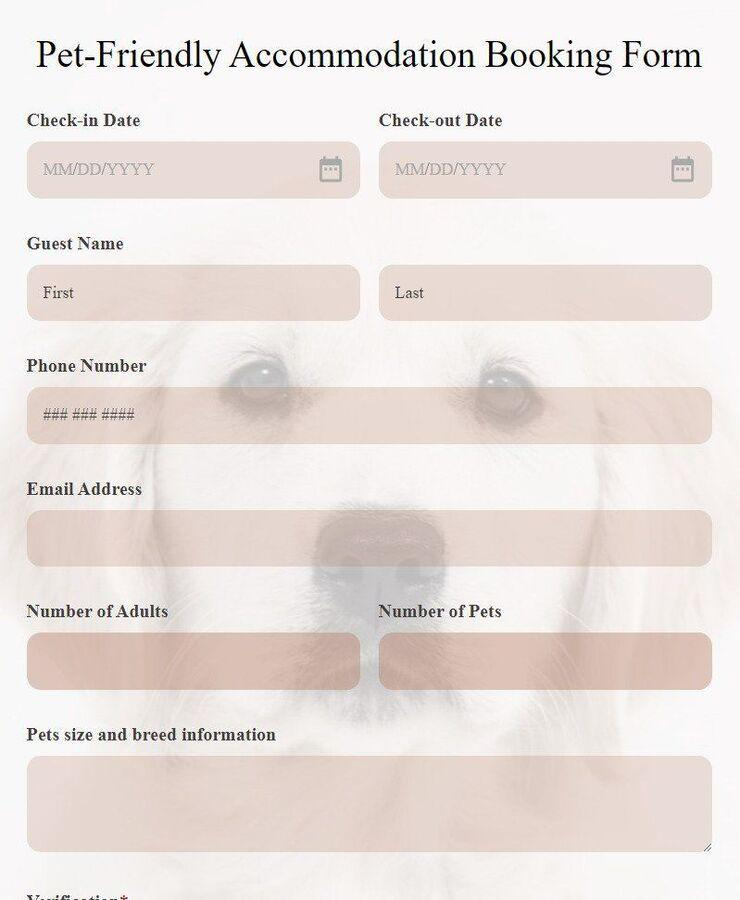input: (27, 510, 715, 570), (27, 387, 713, 446), (378, 264, 715, 325), (26, 632, 362, 693), (28, 141, 363, 202), (379, 632, 714, 692), (379, 141, 716, 200), (27, 265, 362, 323)
label: (23, 723, 282, 744), (23, 105, 146, 135), (26, 600, 176, 624), (376, 109, 509, 135), (377, 600, 508, 624), (21, 477, 146, 502), (22, 354, 153, 376), (26, 232, 130, 256)
